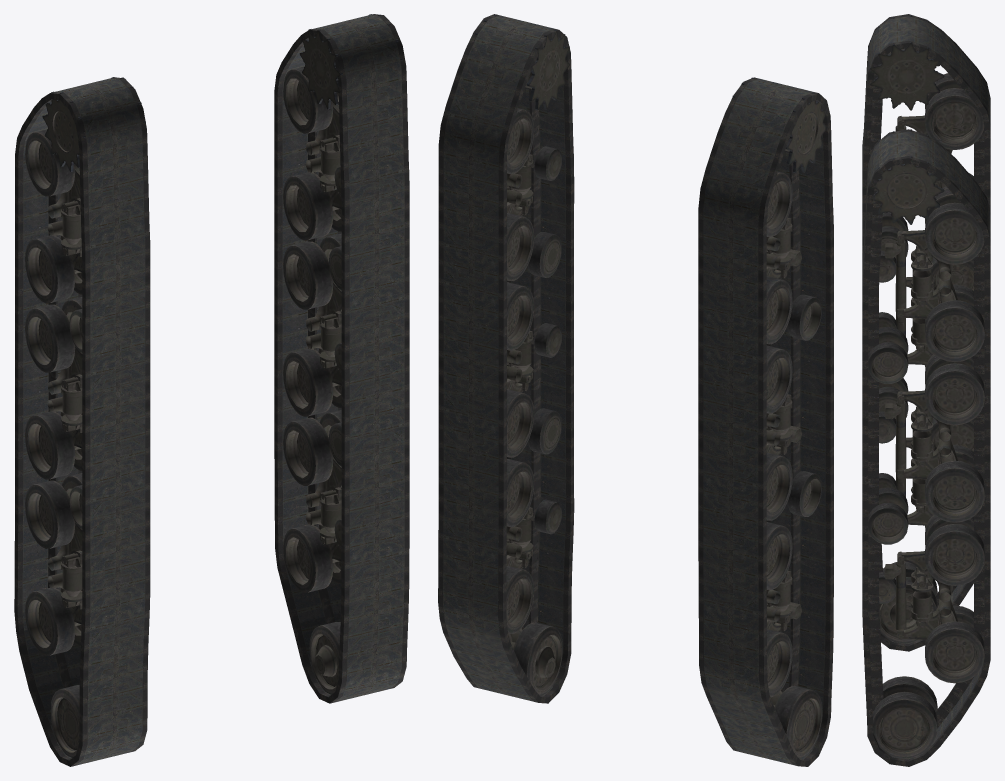
Rendered from Chassis.glb.
3 renders of one model, left to right at view 1: azimuth 30°, elevation 25°; view 2: azimuth 150°, elevation 25°; view 3: azimuth 270°, elevation 25°, orthographic. The views are drawn at different scales.
Parts seen in each view (by area): view 1: set_1_group_0, set_0_group_0, set_3_group_0, set_2_group_0; view 2: set_1_group_0, set_0_group_0, set_3_group_0, set_2_group_0; view 3: set_3_group_0, set_0_group_0, set_2_group_0, set_1_group_0.
Part boxes in pixels (x1,y1,x2,y2): set_1_group_0: [14, 77, 150, 766]; set_0_group_0: [274, 14, 409, 703]; set_3_group_0: [283, 14, 403, 694]; set_2_group_0: [25, 77, 145, 757]; set_1_group_0: [698, 77, 833, 766]; set_0_group_0: [438, 14, 574, 703]; set_3_group_0: [475, 14, 569, 695]; set_2_group_0: [732, 77, 825, 759]; set_3_group_0: [868, 129, 984, 758]; set_0_group_0: [862, 129, 990, 766]; set_2_group_0: [870, 15, 984, 643]; set_1_group_0: [862, 14, 990, 651].
Bounding box in the file's own units: 2.92 × 5.69 × 1.09.
4 materials, 4 textured.
